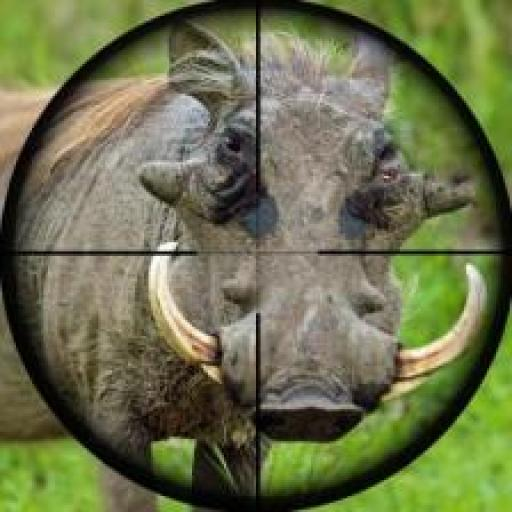Pig: (87, 34, 472, 466)
